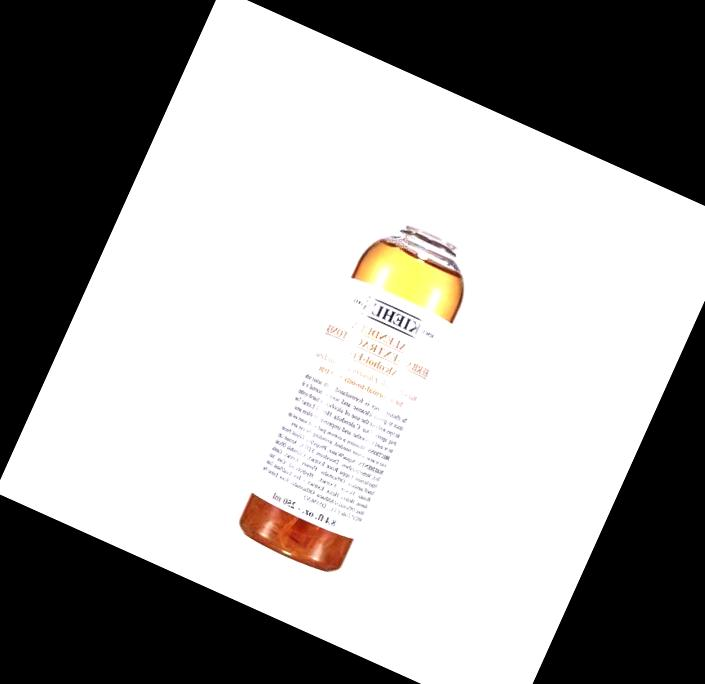cosmetic: (233, 144, 509, 580)
